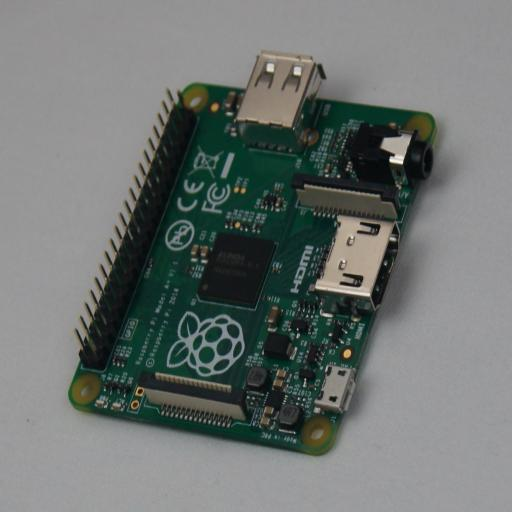Raspberry Pi A-: (68, 56, 442, 456)
